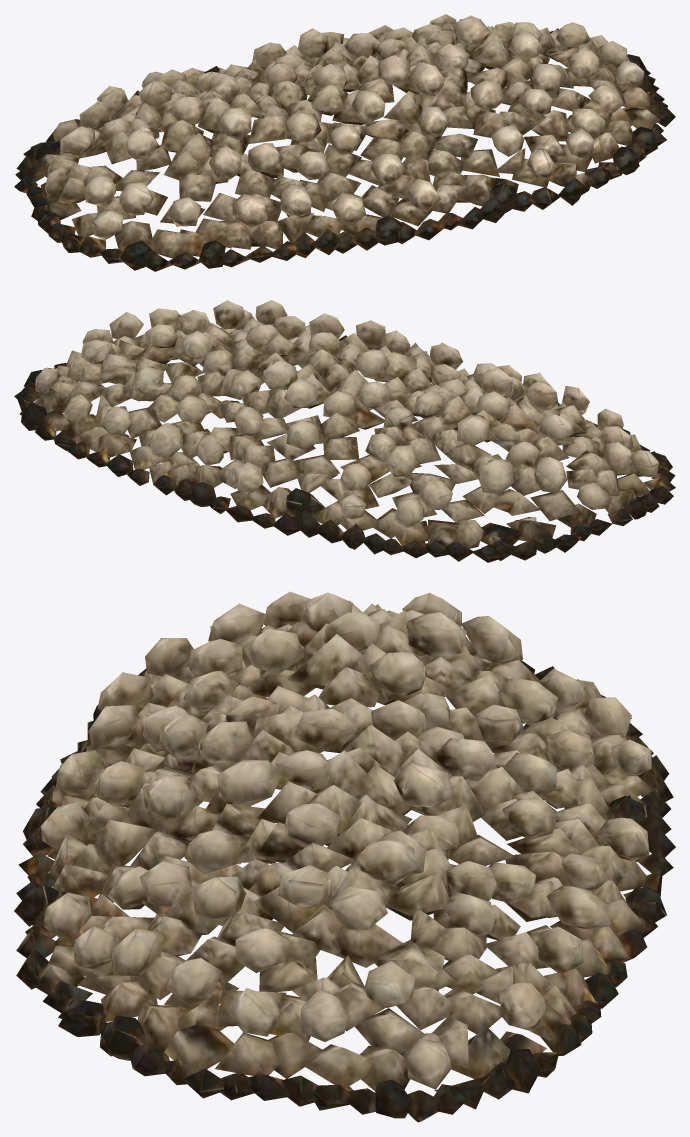
File: skull-pile-b.glb
3 renders of one model, top to bottom at view 1: azimuth 30°, elevation 25°; view 2: azimuth 150°, elevation 25°; view 3: azimuth 270°, elevation 25°, orthographic. The views are drawn at different scales.
Visible parts, largest first — view 1: mesh_node; view 2: mesh_node; view 3: mesh_node.
Boxes of the visible parts, x1,y1,x2,y2 form: mesh_node: (14,14,675,271); mesh_node: (14,300,675,562); mesh_node: (14,591,675,1122).
Size of the model in its own units: 1 by 0.167 by 0.5879.
Materials: 1 (1 with a texture image).
